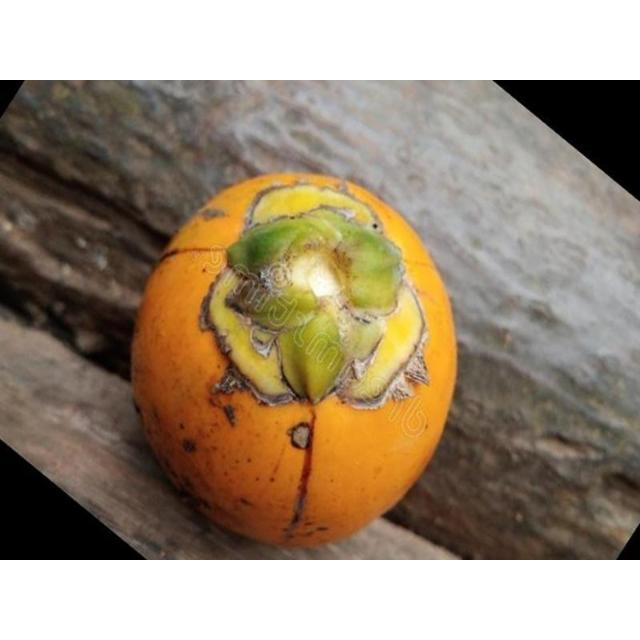good: (128, 174, 458, 549)
